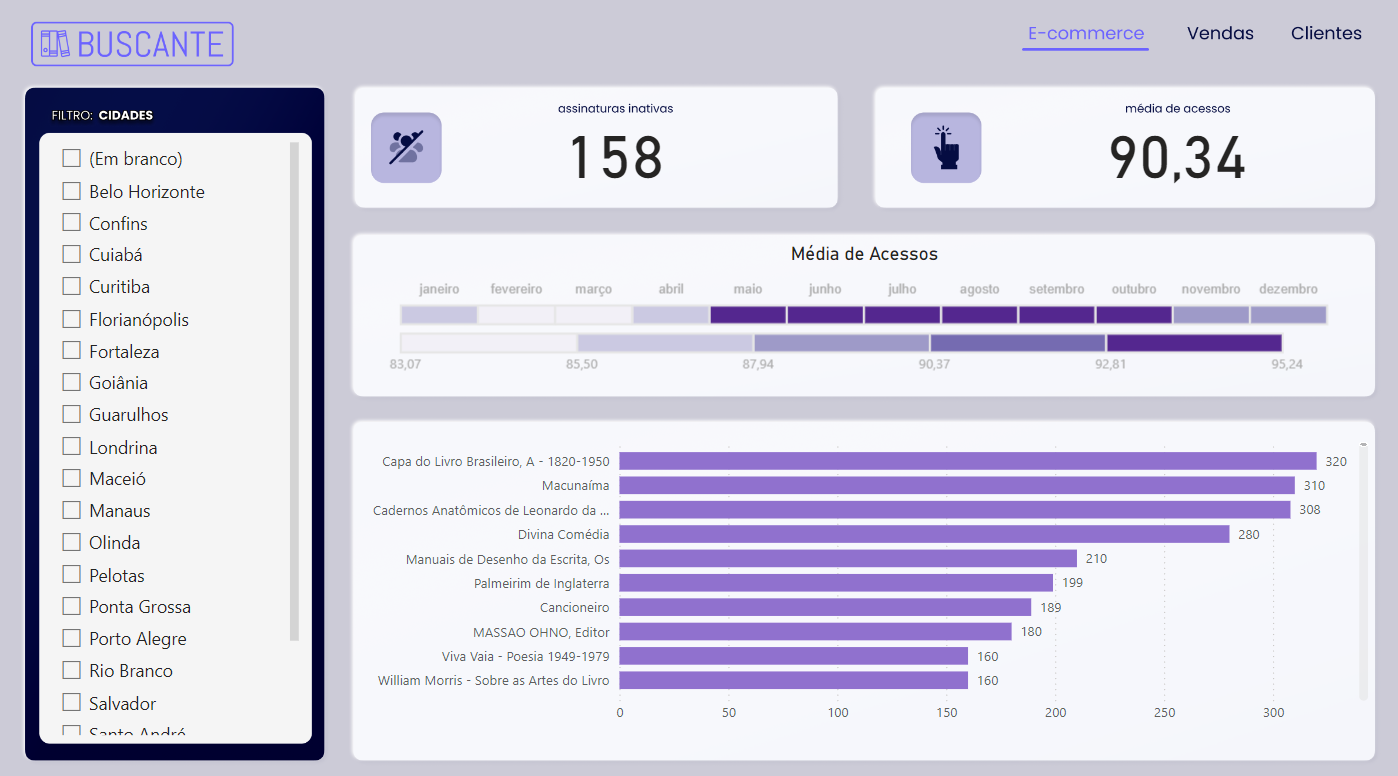

The page's visual inventory and layout, read from the dashboard file:
{"tool":"powerbi","page":{"name":"e-commerce","canvas":[1280,720],"ordinal":0},"visuals":[{"type":"slicer","fields":{"Values":["Clientes (2).Cidade"]},"box":[46.7,127.4,232.5,547.6],"z":0},{"type":"card","fields":{"Values":["Clientes (2).Assinatura ativa"]},"box":[452.3,116.7,215,64.2],"z":1000},{"type":"card","fields":{"Values":["Acessos na página (2).Acessos"]},"box":[943.5,116.7,253.9,64.2],"z":2000},{"type":"TableHeatMap1443716069308","title":"Média de Acessos","fields":{"Y":["Acessos na página (2).Acessos"],"Category":["Acessos na página (2).Data.Variation.Hierarquia de datas.Mês"]},"box":[351.1,221.8,870.5,151.7],"z":3000},{"type":"clusteredBarChart","fields":{"Category":["Catálogo livros (2).Titulo"],"Y":["Catálogo livros (2).Valor"]},"box":[320,391,928.9,276.2],"z":4000},{"type":"actionButton","box":[1061.2,12.6,100.2,39.9],"z":4001},{"type":"actionButton","box":[1161.3,12.6,100.2,39.9],"z":4002}]}

Visuals, with their boxes in screenshot pixels (x1, y1, x2, y2), scaled from the page's 1280x720 canvas onto the 1398x776 screenshot:
slicer - Clientes (2).Cidade: [51, 137, 305, 728]
card - Clientes (2).Assinatura ativa: [494, 126, 729, 195]
card - Acessos na página (2).Acessos: [1030, 126, 1308, 195]
"Média de Acessos" TableHeatMap1443716069308: [383, 239, 1334, 403]
clusteredBarChart - Catálogo livros (2).Titulo x Catálogo livros (2).Valor: [350, 421, 1364, 719]
actionButton: [1159, 14, 1268, 57]
actionButton: [1268, 14, 1378, 57]
